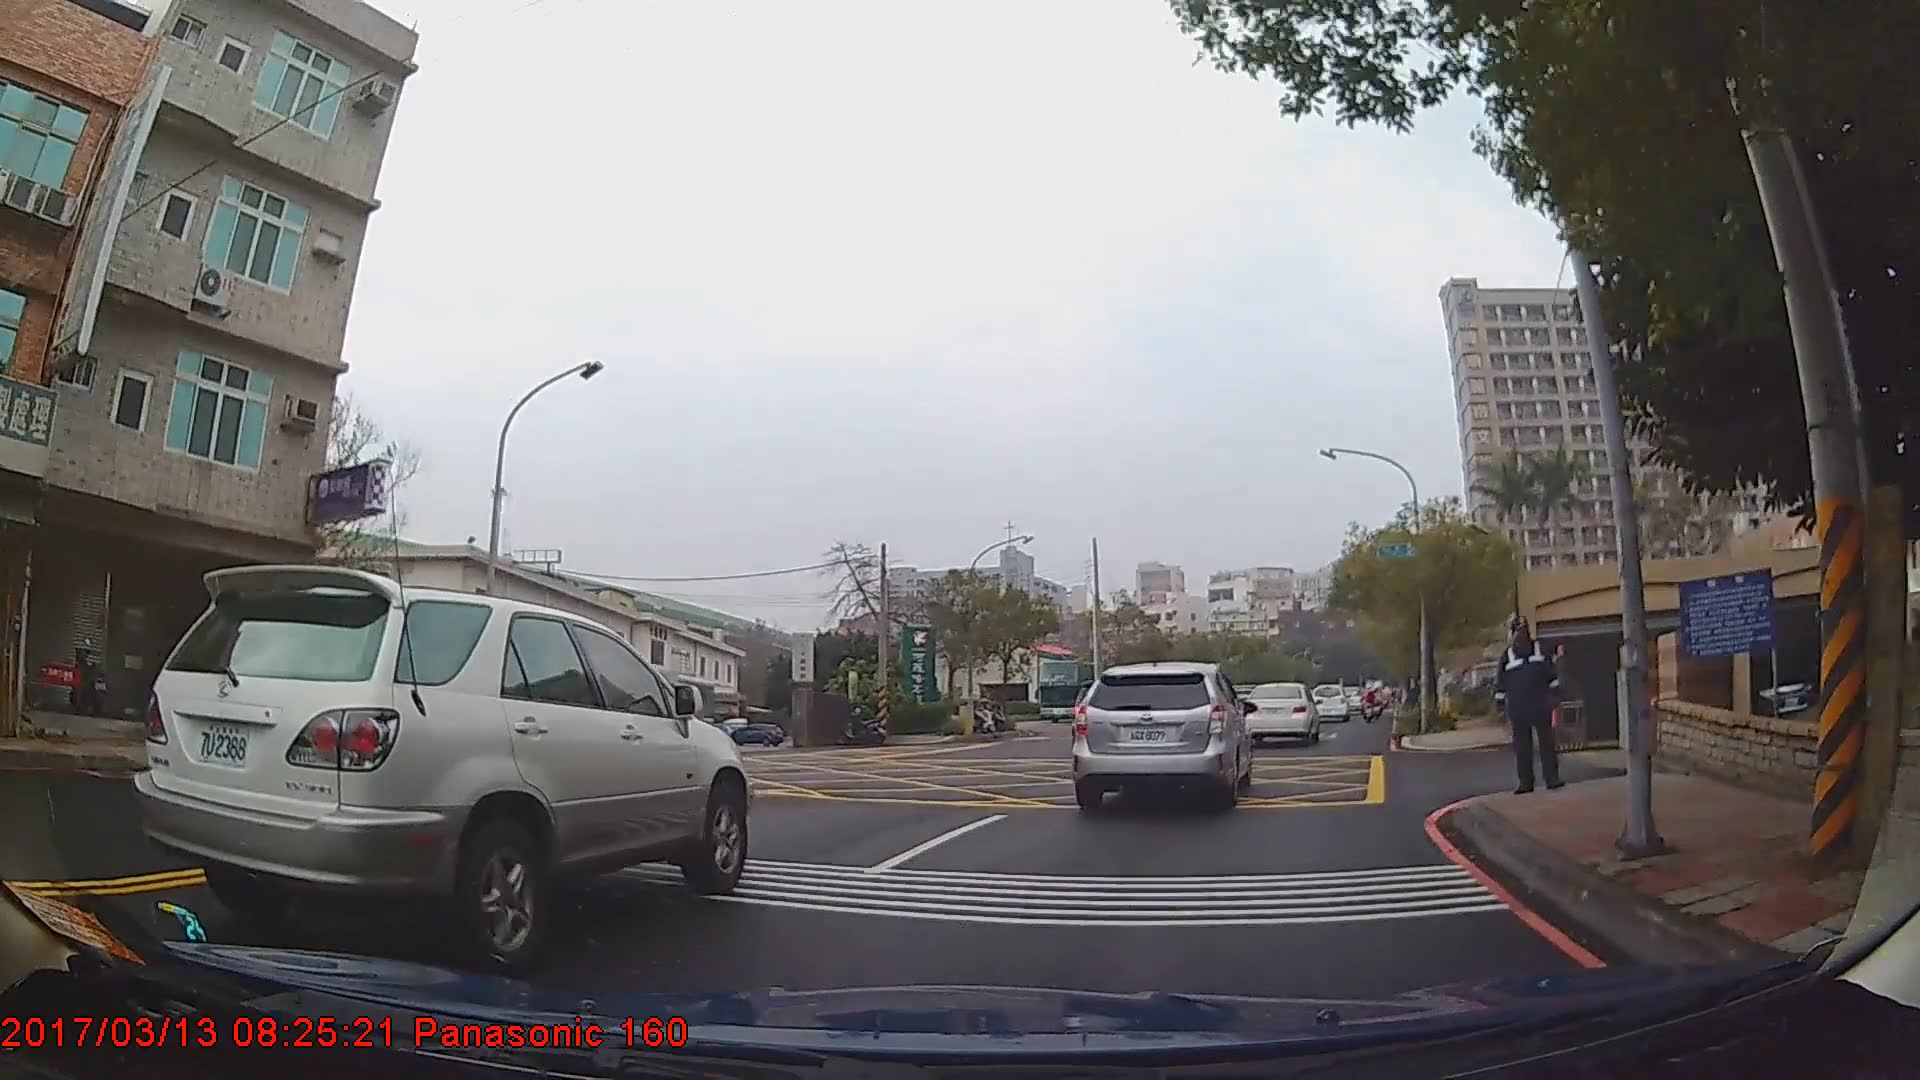pedestrian: (1497, 615, 1565, 796)
vehicle: (130, 565, 750, 974), (1071, 659, 1252, 812), (1239, 682, 1321, 748), (1310, 684, 1351, 725), (726, 723, 785, 745)
